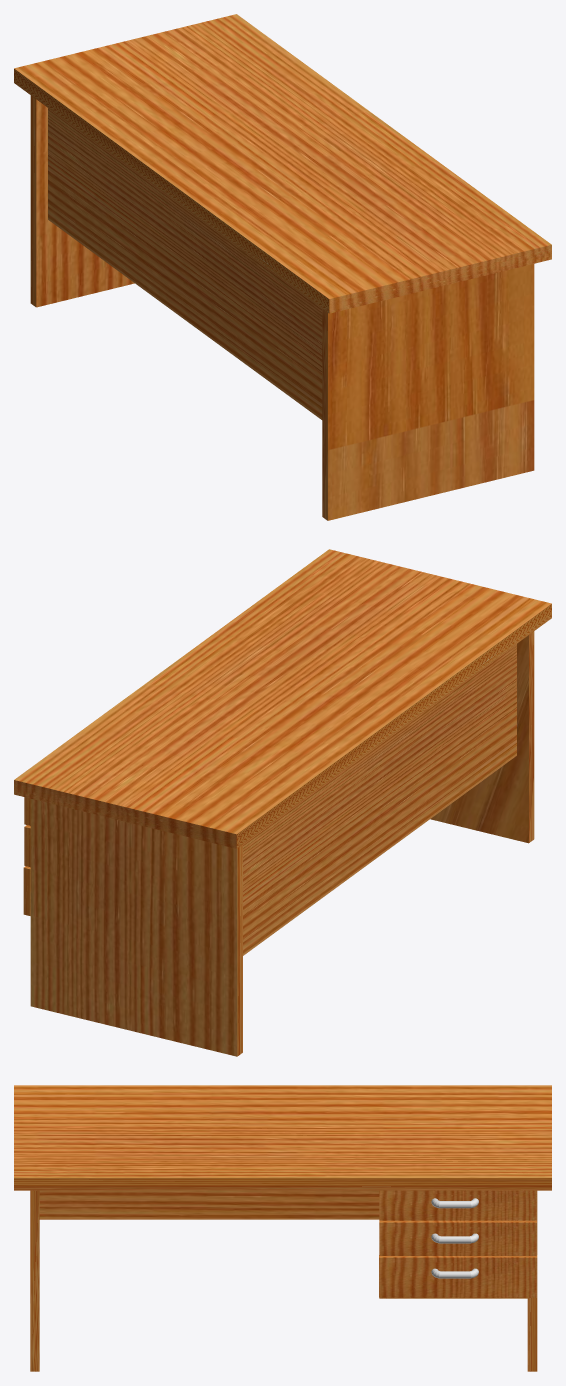
File: desk.fbx
The picture shows the model from 3 angles, top to bottom: view 1: azimuth 30°, elevation 25°; view 2: azimuth 150°, elevation 25°; view 3: azimuth 270°, elevation 25°; orthographic projection. The views are drawn at different scales.
Visible parts, largest first — view 1: pCube1; view 2: pCube1; view 3: pCube1.
Part boxes in pixels (x1,y1,x2,y2): pCube1: (14, 14, 551, 520); pCube1: (14, 549, 551, 1056); pCube1: (14, 1085, 551, 1371).
Size of the model in its own units: 30.73 by 29.06 by 71.97.
5 materials, 2 textured.
